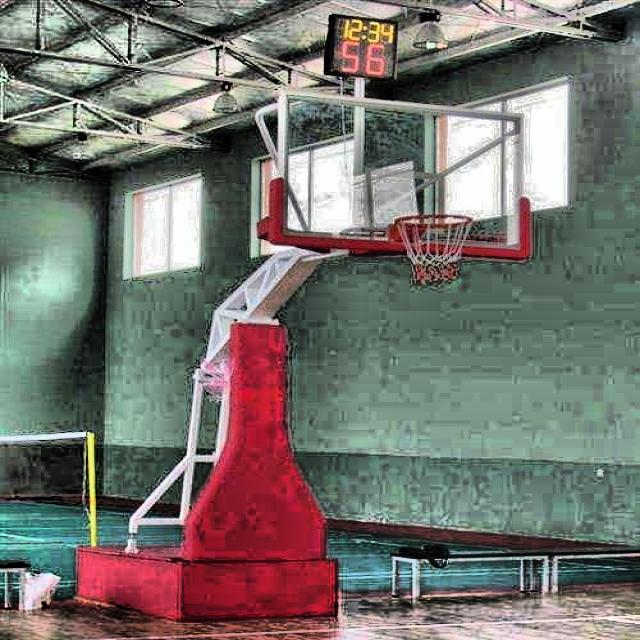rim: (392, 212, 472, 283)
